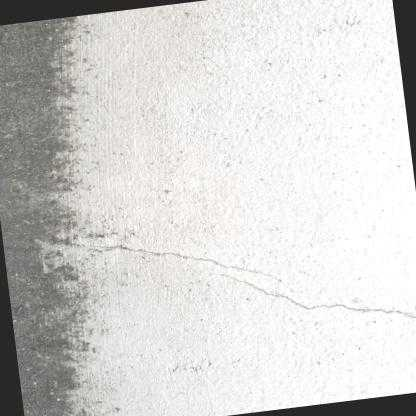crack: (227, 275, 416, 316), (84, 244, 277, 279)
